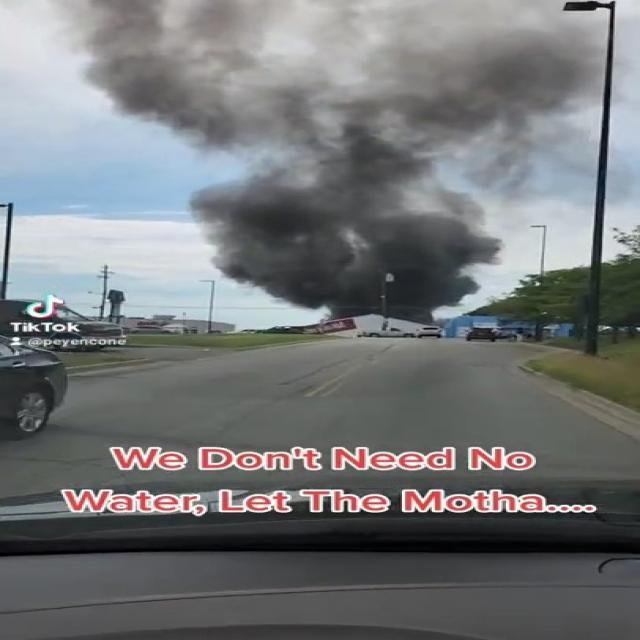Smoke: (190, 162, 506, 331)
